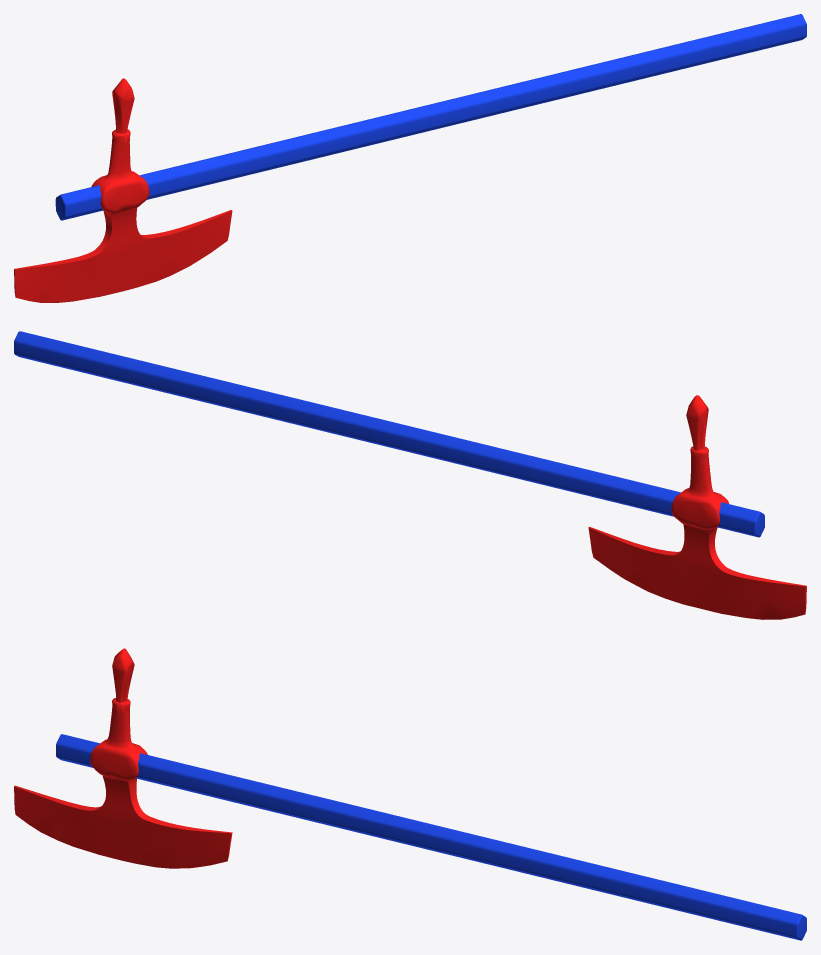
Rendered from varangian_axe_a.fbx.
The picture shows the model from 3 angles, top to bottom: view 1: azimuth 30°, elevation 25°; view 2: azimuth 150°, elevation 25°; view 3: azimuth 330°, elevation 25°; orthographic projection.
Visible parts, largest first — view 1: varangian_axe_a; view 2: varangian_axe_a; view 3: varangian_axe_a.
Boxes of the visible parts, x1,y1,x2,y2 form: varangian_axe_a: [14, 14, 806, 302]; varangian_axe_a: [14, 331, 806, 619]; varangian_axe_a: [14, 648, 806, 940].
Size of the model in its own units: 73 by 18.81 by 2.1.
